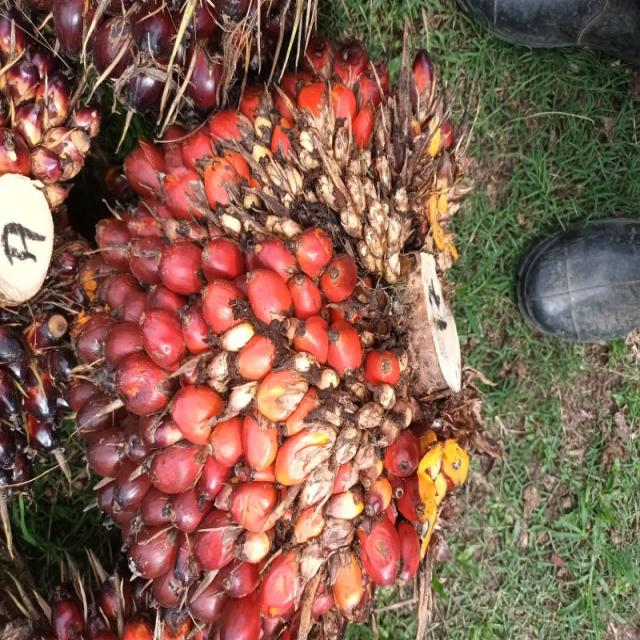fraksi 1: (3, 77, 456, 640)
